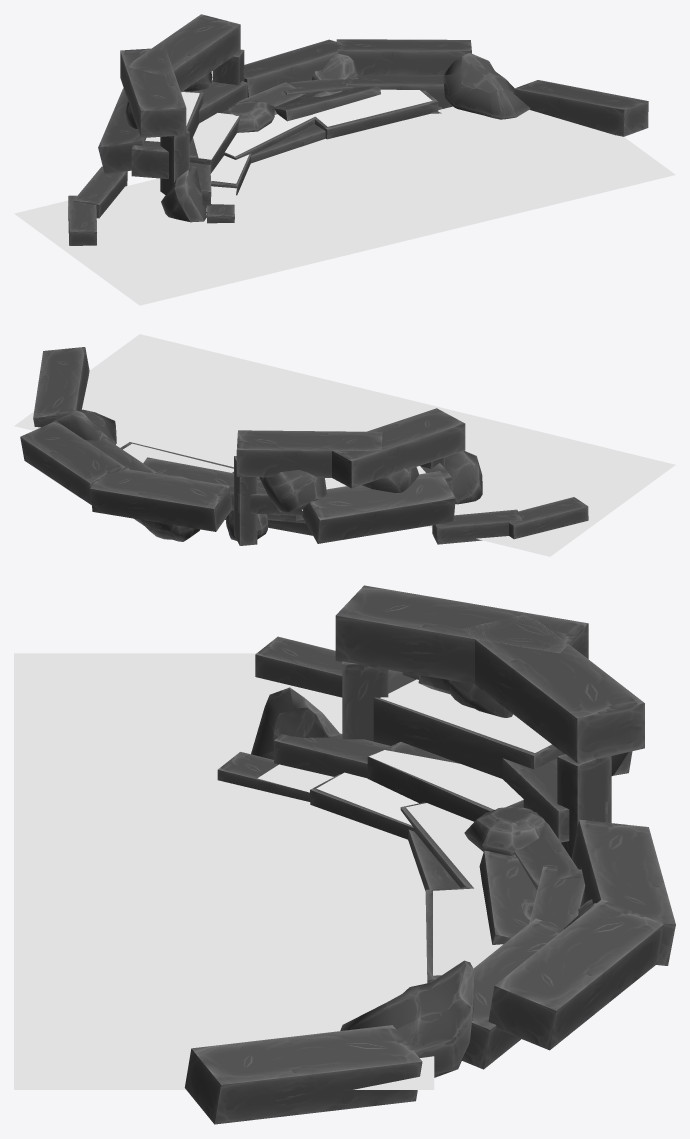
Rendered from PFB_WaterFall.fbx.
The picture shows the model from 3 angles, top to bottom: view 1: azimuth 30°, elevation 25°; view 2: azimuth 150°, elevation 25°; view 3: azimuth 270°, elevation 25°; orthographic projection. The views are drawn at different scales.
Visible parts, largest first — view 1: Water__24_, MSH_cailloux_rectangulaire_6, MSH_cailloux_rectangulaire_11, MSH_cailloux_rectangulaire__1_, MSH_cailloux_rectangulaire_4, MSH_cailloux_deforme_1_3, MSH_cailloux_rectangulaire_9, MSH_cailloux_rectangulaire__4_, Water__23_, MSH_cailloux_deforme_1, MSH_cailloux_rectangulaire__2_, MSH_cailloux_rectangulaire_17 (+20 smaller); view 2: Water__24_, MSH_cailloux_rectangulaire__4_, MSH_cailloux_rectangulaire_9, MSH_cailloux_rectangulaire__1_, MSH_cailloux_rectangulaire_6, MSH_cailloux_rectangulaire_4, MSH_cailloux_rectangulaire_11, MSH_cailloux_rectangulaire__1__1, MSH_cailloux_rectangulaire_15, MSH_cailloux_deforme_1_2, MSH_cailloux_rectangulaire_5, MSH_cailloux_deforme_1 (+9 smaller); view 3: Water__24_, MSH_cailloux_rectangulaire_11, MSH_cailloux_rectangulaire_6, MSH_cailloux_rectangulaire__1_, MSH_cailloux_rectangulaire_4, MSH_cailloux_rectangulaire_9, MSH_cailloux_deforme_1_3, MSH_cailloux_rectangulaire__2_, MSH_cailloux_rectangulaire_8, Water__23_, Water__22_, MSH_cailloux_rectangulaire_15 (+19 smaller).
Boxes of the visible parts, left/top/right/bottom form: Water__24_: left=14, top=106, right=675, bottom=305; MSH_cailloux_rectangulaire_6: left=126, top=14, right=240, bottom=92; MSH_cailloux_rectangulaire_11: left=513, top=80, right=648, bottom=136; MSH_cailloux_rectangulaire__1_: left=120, top=48, right=186, bottom=137; MSH_cailloux_rectangulaire_4: left=336, top=39, right=471, bottom=75; MSH_cailloux_deforme_1_3: left=443, top=52, right=530, bottom=119; MSH_cailloux_rectangulaire_9: left=244, top=39, right=354, bottom=97; MSH_cailloux_rectangulaire__4_: left=98, top=88, right=146, bottom=174; Water__23_: left=313, top=89, right=432, bottom=126; MSH_cailloux_deforme_1: left=161, top=166, right=206, bottom=222; MSH_cailloux_rectangulaire__2_: left=131, top=91, right=203, bottom=178; MSH_cailloux_rectangulaire_17: left=315, top=90, right=438, bottom=139; Water__24_: left=14, top=334, right=675, bottom=556; MSH_cailloux_rectangulaire__4_: left=302, top=471, right=455, bottom=543; MSH_cailloux_rectangulaire_9: left=90, top=466, right=232, bottom=531; MSH_cailloux_rectangulaire__1_: left=325, top=408, right=465, bottom=488; MSH_cailloux_rectangulaire_6: left=236, top=430, right=382, bottom=477; MSH_cailloux_rectangulaire_4: left=20, top=421, right=126, bottom=505; MSH_cailloux_rectangulaire_11: left=33, top=347, right=89, bottom=427; MSH_cailloux_rectangulaire__1__1: left=432, top=509, right=522, bottom=544; MSH_cailloux_rectangulaire_15: left=508, top=497, right=588, bottom=539; MSH_cailloux_deforme_1_2: left=259, top=470, right=326, bottom=512; MSH_cailloux_rectangulaire_5: left=234, top=456, right=257, bottom=545; MSH_cailloux_deforme_1: left=445, top=451, right=482, bottom=504; Water__24_: left=14, top=653, right=434, bottom=1089; MSH_cailloux_rectangulaire_11: left=184, top=1025, right=422, bottom=1124; MSH_cailloux_rectangulaire_6: left=462, top=614, right=644, bottom=762; MSH_cailloux_rectangulaire__1_: left=335, top=585, right=588, bottom=684; MSH_cailloux_rectangulaire_4: left=488, top=899, right=663, bottom=1050; MSH_cailloux_rectangulaire_9: left=571, top=819, right=675, bottom=965; MSH_cailloux_deforme_1_3: left=340, top=960, right=474, bottom=1077; MSH_cailloux_rectangulaire__2_: left=373, top=670, right=563, bottom=778; MSH_cailloux_rectangulaire_8: left=462, top=918, right=561, bottom=1069; Water__23_: left=433, top=888, right=502, bottom=975; Water__22_: left=380, top=679, right=551, bottom=752; MSH_cailloux_rectangulaire_15: left=255, top=636, right=342, bottom=697.
Size of the model in its own units: 20174 by 4578 by 12133.
Materials: 6 (4 with a texture image).
